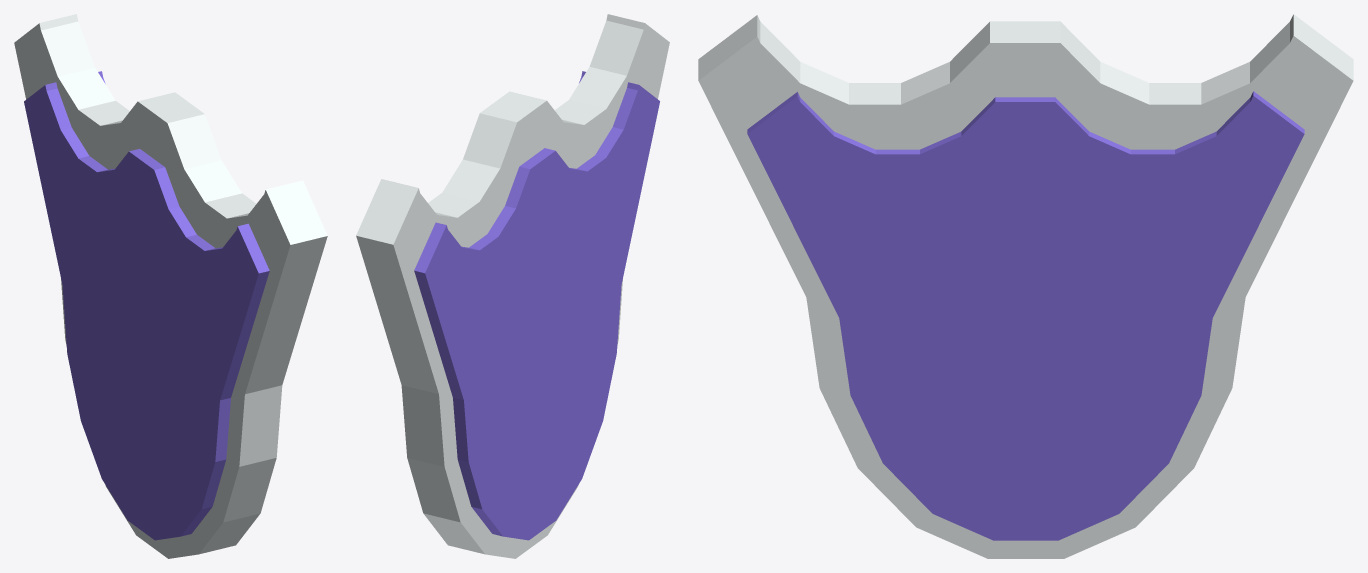
Rendered from bronya.fbx.
3 views of the same model, side by side, from view 1: azimuth 30°, elevation 25°; view 2: azimuth 150°, elevation 25°; view 3: azimuth 270°, elevation 25° (orthographic). The views are drawn at different scales.
Parts seen in each view (by area): view 1: Cube.001, Cube; view 2: Cube.001, Cube; view 3: Cube.001, Cube.
Part boxes in pixels (x1,y1,x2,y2): Cube.001: (24,71,269,540); Cube: (14,14,327,558); Cube.001: (414,71,659,540); Cube: (356,14,669,558); Cube.001: (747,91,1304,540); Cube: (698,14,1353,558).
Size of the model in its own units: 41.34 by 308 by 349.
